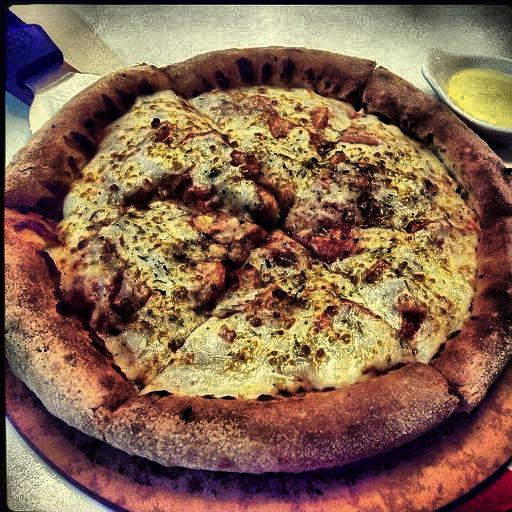pizza: (2, 35, 509, 498)
